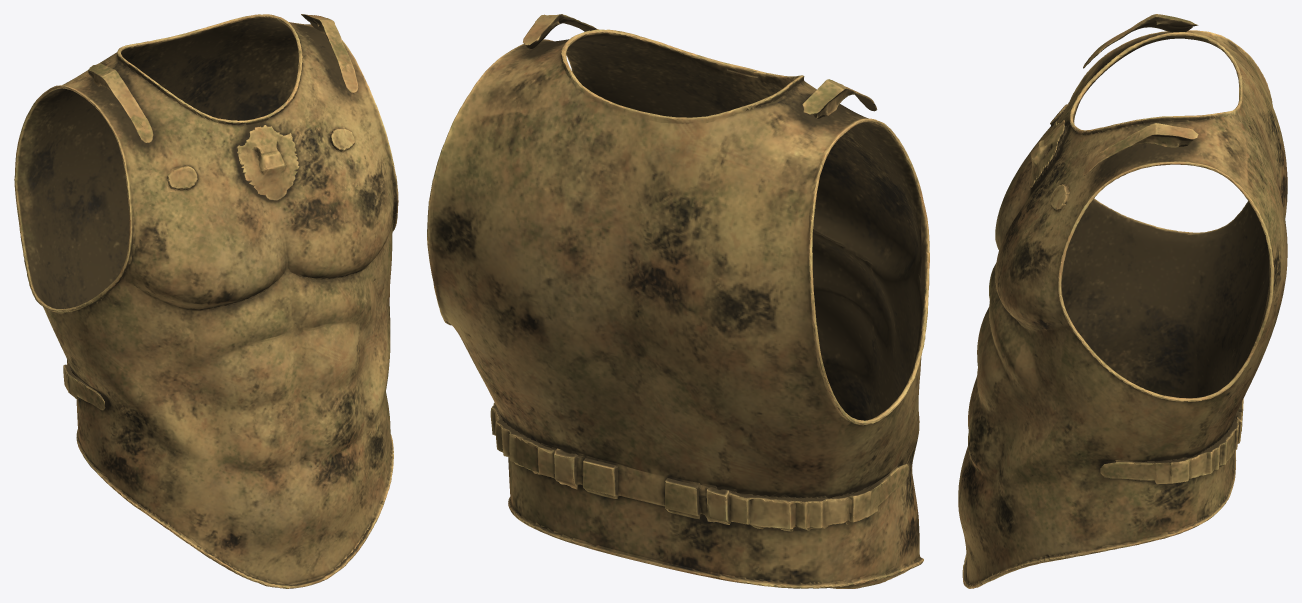
Rendered from thorsoshield.glb.
3 views of the same model, side by side, from view 1: azimuth 30°, elevation 25°; view 2: azimuth 150°, elevation 25°; view 3: azimuth 270°, elevation 25° (orthographic). The views are drawn at different scales.
Visible parts, largest first — view 1: model; view 2: model; view 3: model.
Part boxes in pixels (<box>): model: <box>14,14,398,588</box>; model: <box>427,14,929,588</box>; model: <box>958,14,1287,588</box>.
Size of the model in its own units: 1.36 by 1.9 by 1.12.
1 material, 1 textured.
